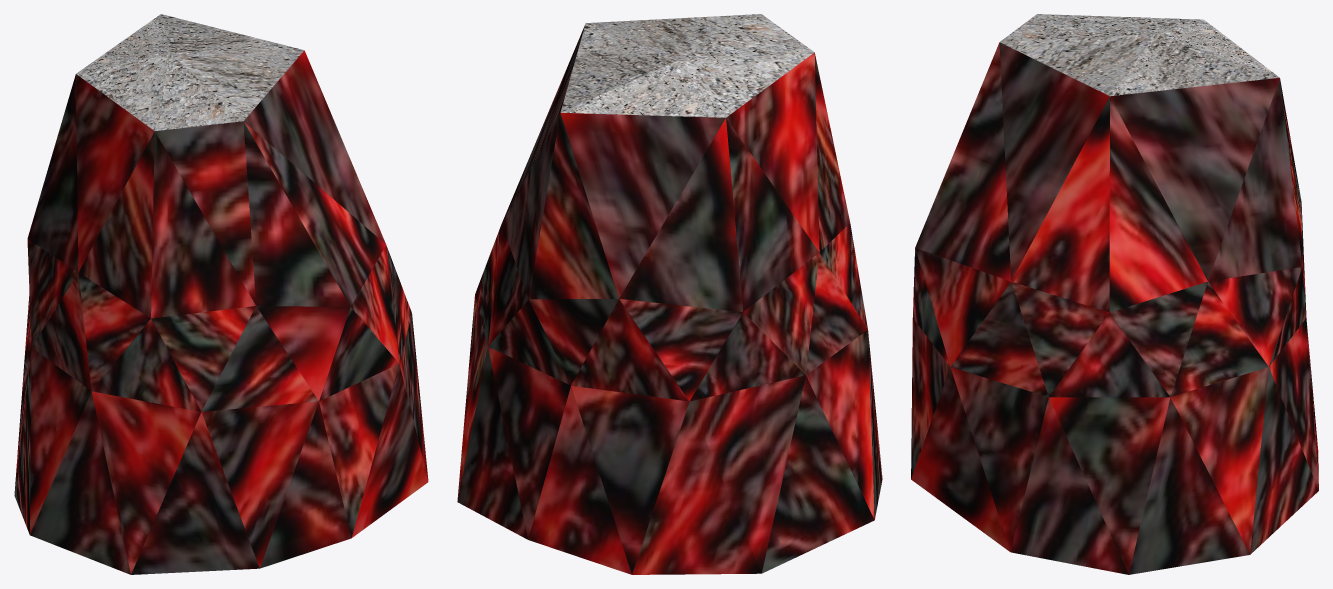
The model's file is infierno roca1.fbx.
3 renders of one model, left to right at view 1: azimuth 30°, elevation 25°; view 2: azimuth 150°, elevation 25°; view 3: azimuth 270°, elevation 25°, orthographic. The views are drawn at different scales.
Parts seen in each view (by area): view 1: Esfera geodésica; view 2: Esfera geodésica; view 3: Esfera geodésica.
Boxes of the visible parts, x1,y1,x2,y2 form: Esfera geodésica: (14, 14, 428, 574); Esfera geodésica: (457, 14, 882, 574); Esfera geodésica: (911, 14, 1318, 574).
Bounding box in the file's own units: 213 × 251 × 207.
